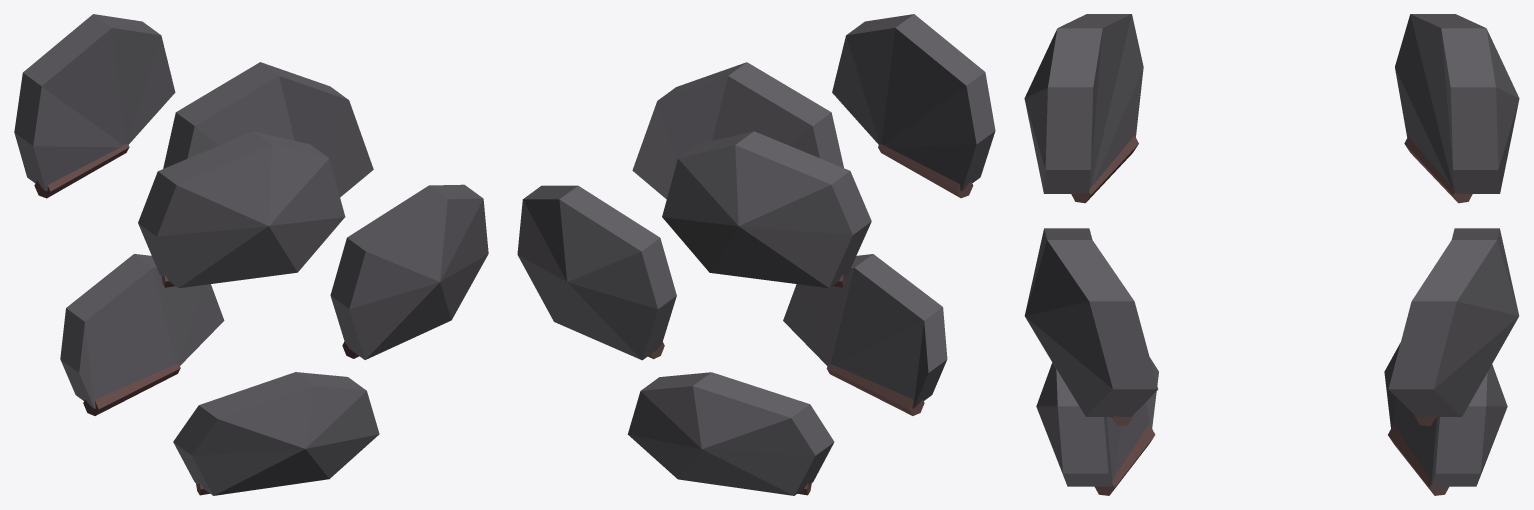
File: implants_hulk_plating.obj
3 renders of one model, left to right at view 1: azimuth 30°, elevation 25°; view 2: azimuth 150°, elevation 25°; view 3: azimuth 270°, elevation 25°, orthographic. The views are drawn at different scales.
Visible parts, largest first — view 1: implants_hulk_plating; view 2: implants_hulk_plating; view 3: implants_hulk_plating.
Part boxes in pixels (box(x1,y1,x2,y2)): implants_hulk_plating: box(14, 14, 488, 495); implants_hulk_plating: box(517, 14, 995, 495); implants_hulk_plating: box(1024, 14, 1519, 495).
Size of the model in its own units: 0.4335 by 0.4474 by 0.4586.
